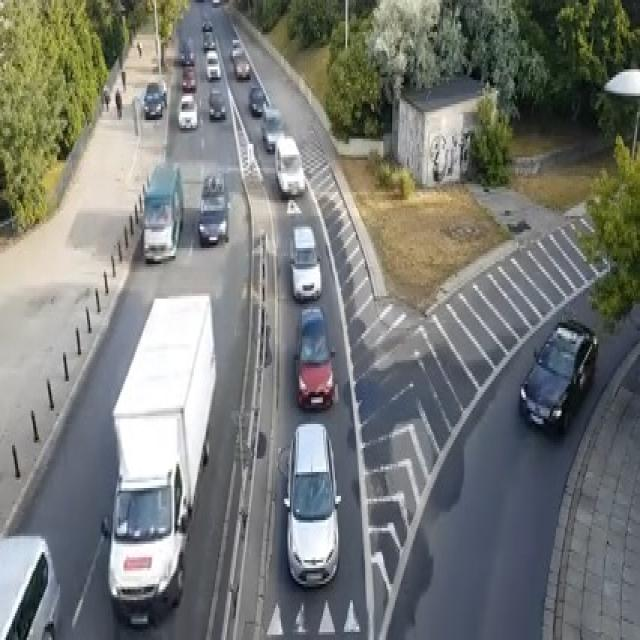car: (279, 420, 340, 588), (291, 302, 342, 421), (281, 221, 324, 308), (196, 172, 237, 250), (270, 138, 315, 205), (180, 95, 208, 141), (259, 102, 283, 146), (144, 79, 166, 122), (247, 82, 269, 114), (209, 90, 227, 120), (182, 67, 197, 89)
truck: (86, 282, 229, 629), (135, 159, 183, 270)
